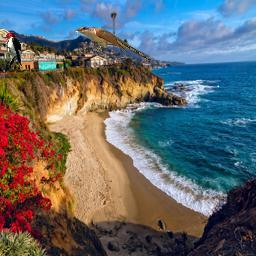Cuckoo: (74, 26, 151, 60)
Woodpecker: (1, 32, 22, 67)
